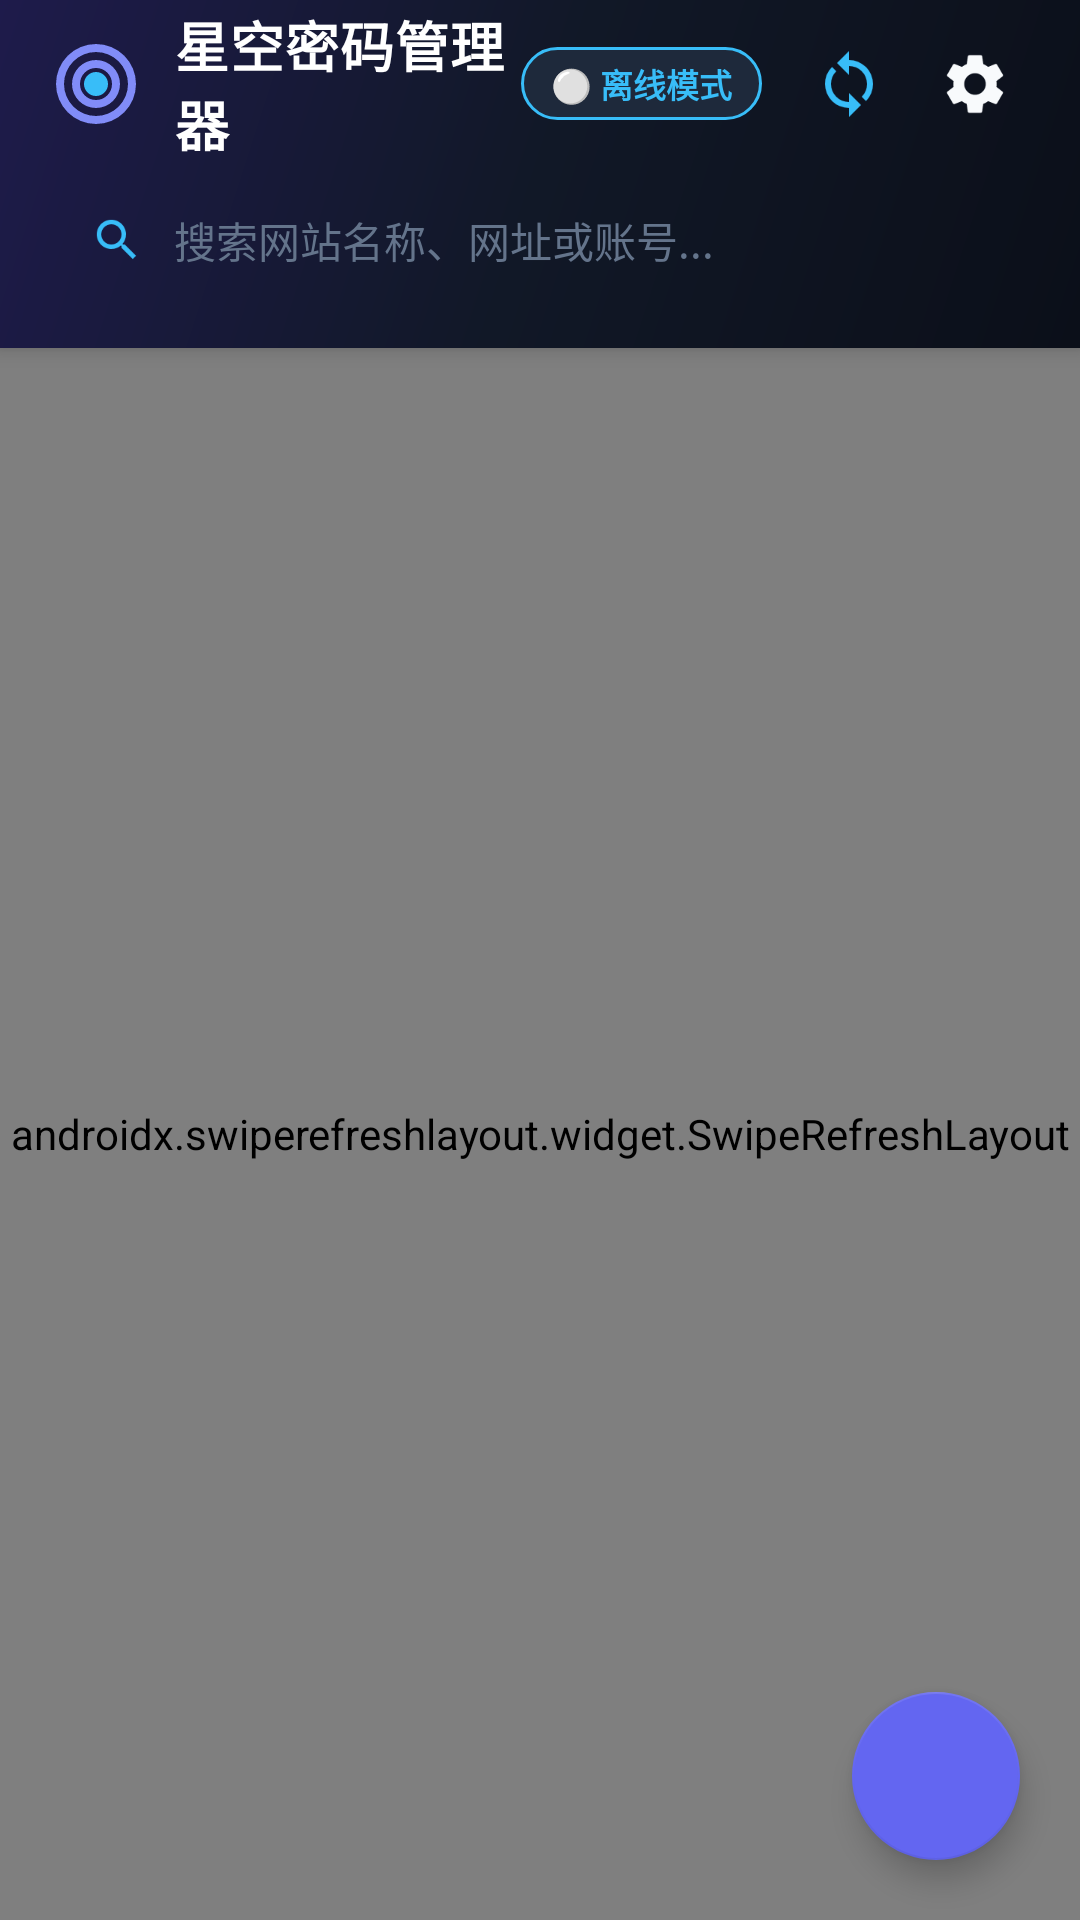

Icon click points for this 1080px×1920px phone screenshot, format [x,y]:
Search Icon: [116,239]
Settings: [975,84]
Sync: [849,84]
